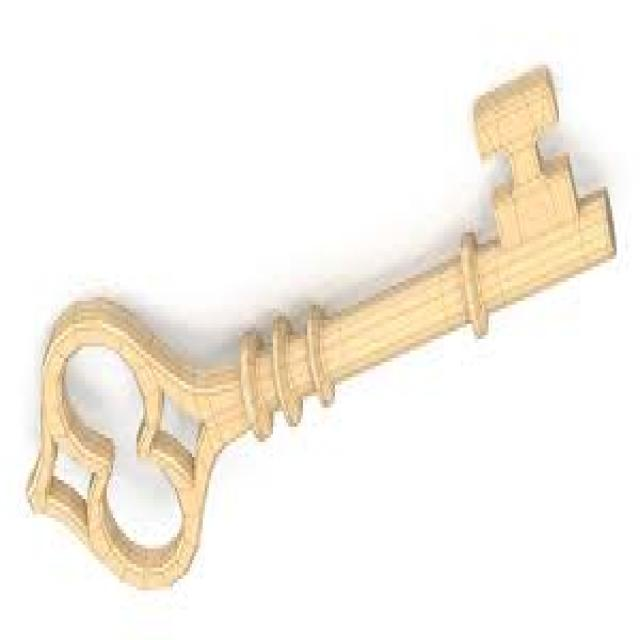key: (18, 17, 620, 621)
